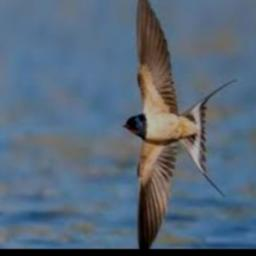Swallow: (123, 0, 238, 249)
